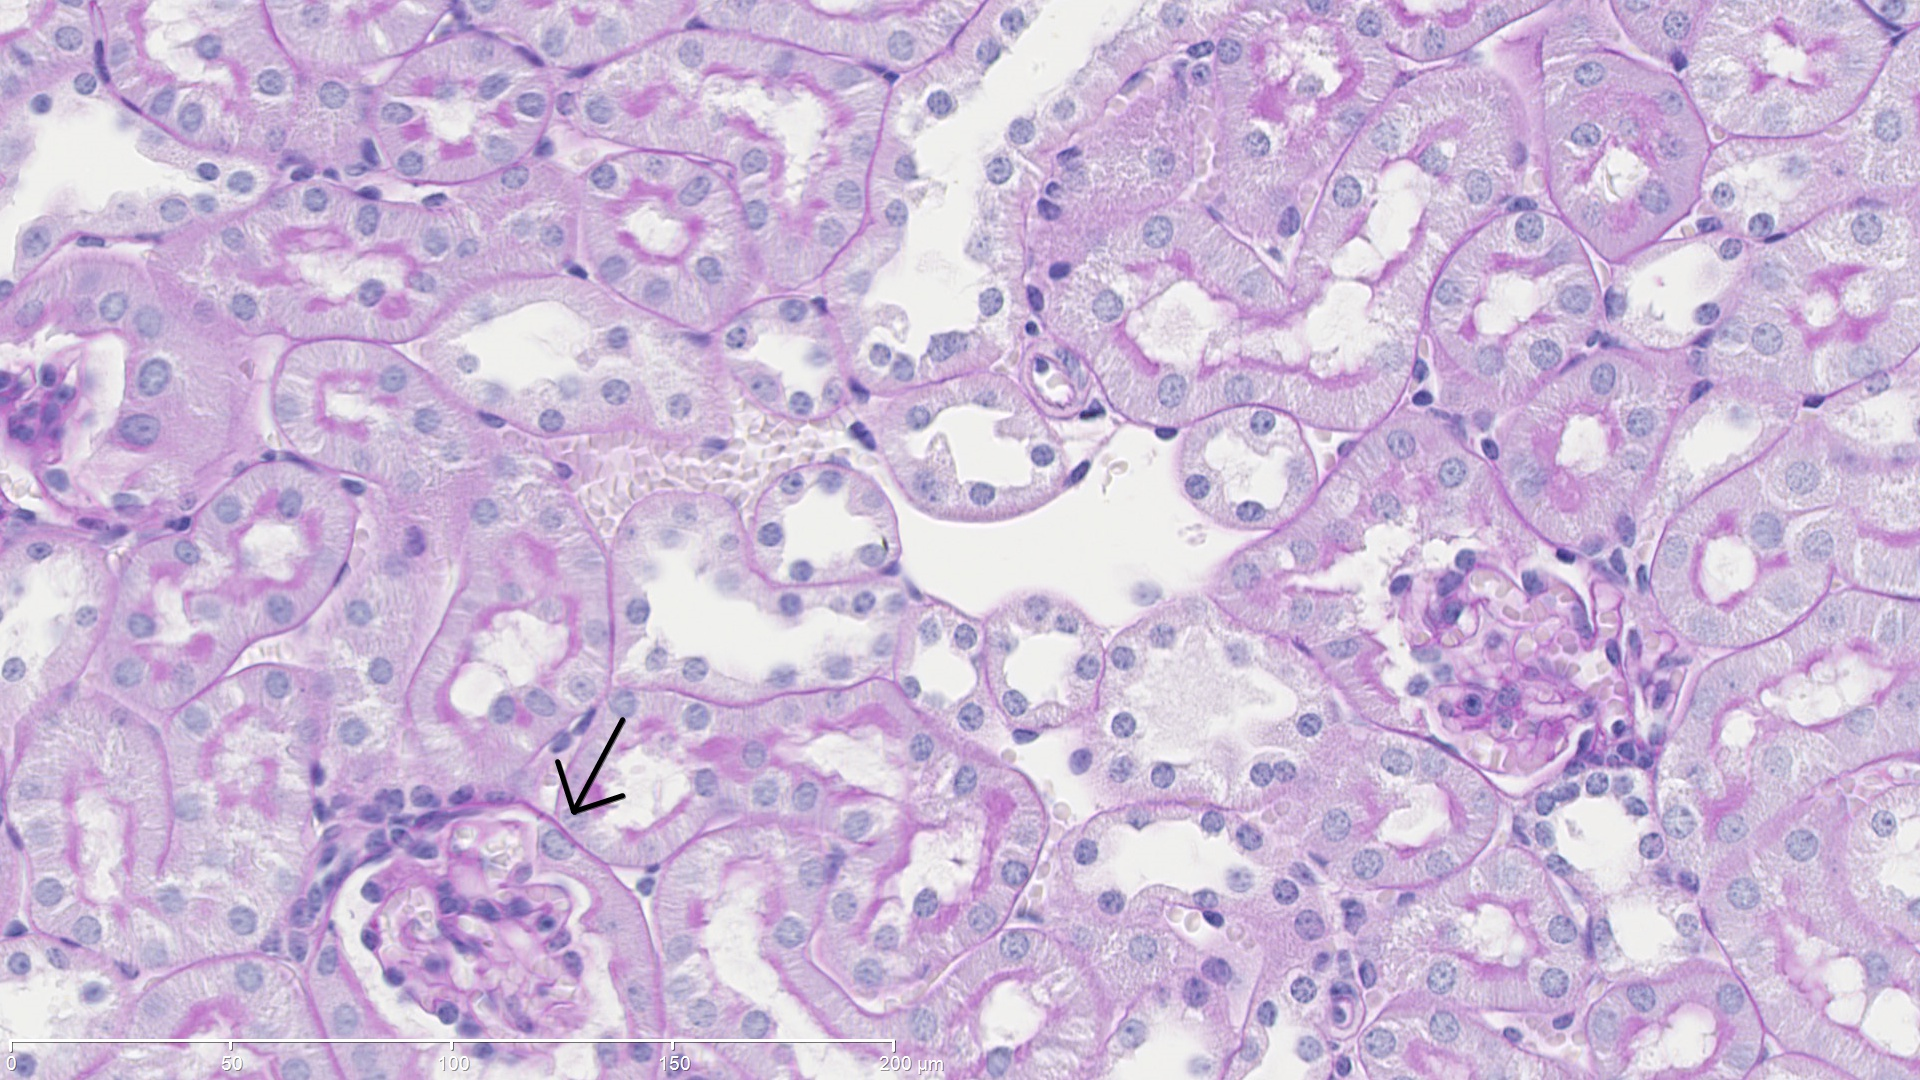Glomeruli: (1382, 538, 1692, 791), (328, 815, 597, 1036)
